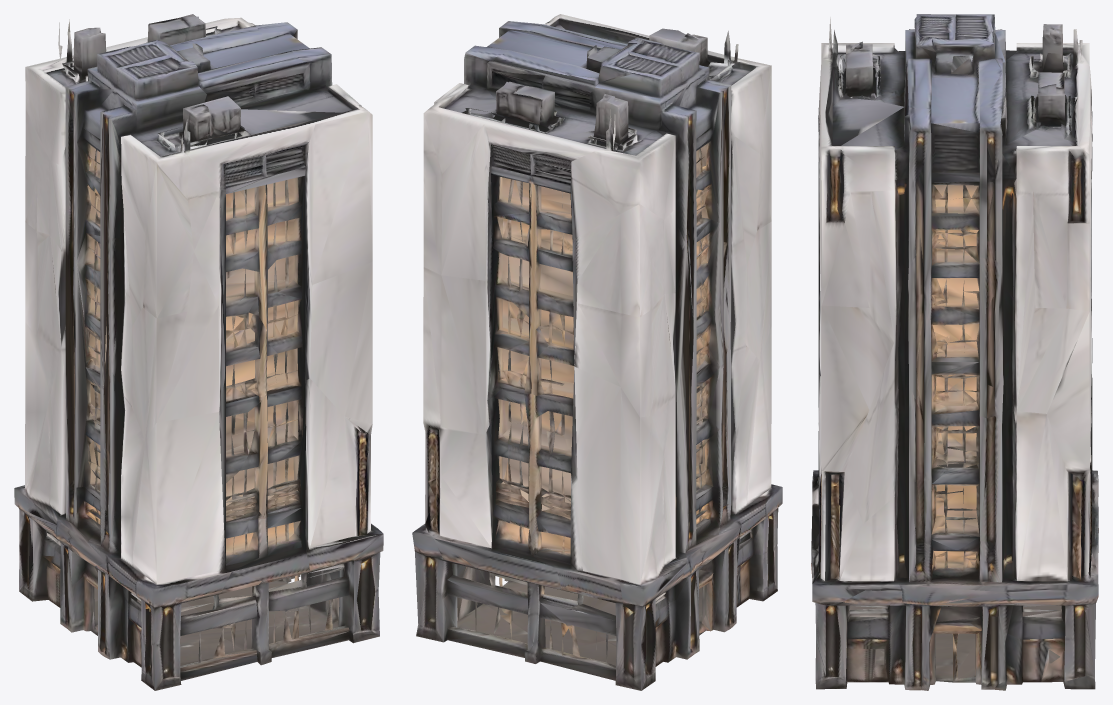
The model's file is officeTower.glb.
3 views of the same model, side by side, from view 1: azimuth 30°, elevation 25°; view 2: azimuth 150°, elevation 25°; view 3: azimuth 270°, elevation 25° (orthographic). The views are drawn at different scales.
Parts seen in each view (by area): view 1: officeTower; view 2: officeTower; view 3: officeTower.
Boxes of the visible parts, left/top/right/bottom form: officeTower: left=14, top=14, right=383, bottom=690; officeTower: left=412, top=14, right=782, bottom=690; officeTower: left=811, top=14, right=1098, bottom=690.
Bounding box in the file's own units: 20.86 × 48.24 × 21.57.
1 material, 1 textured.
